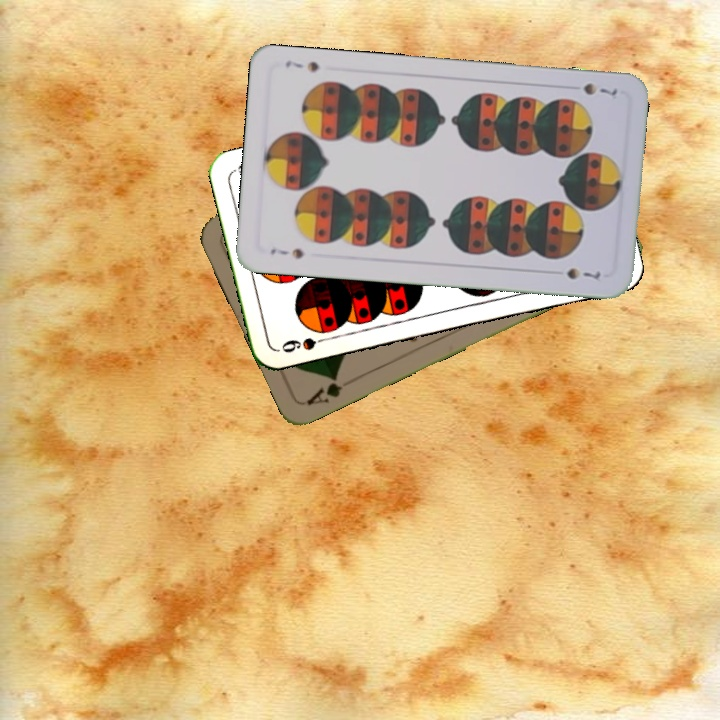GA: (302, 370, 346, 408)
S7: (579, 79, 620, 102), (266, 244, 307, 261)
S9: (277, 333, 335, 356)
